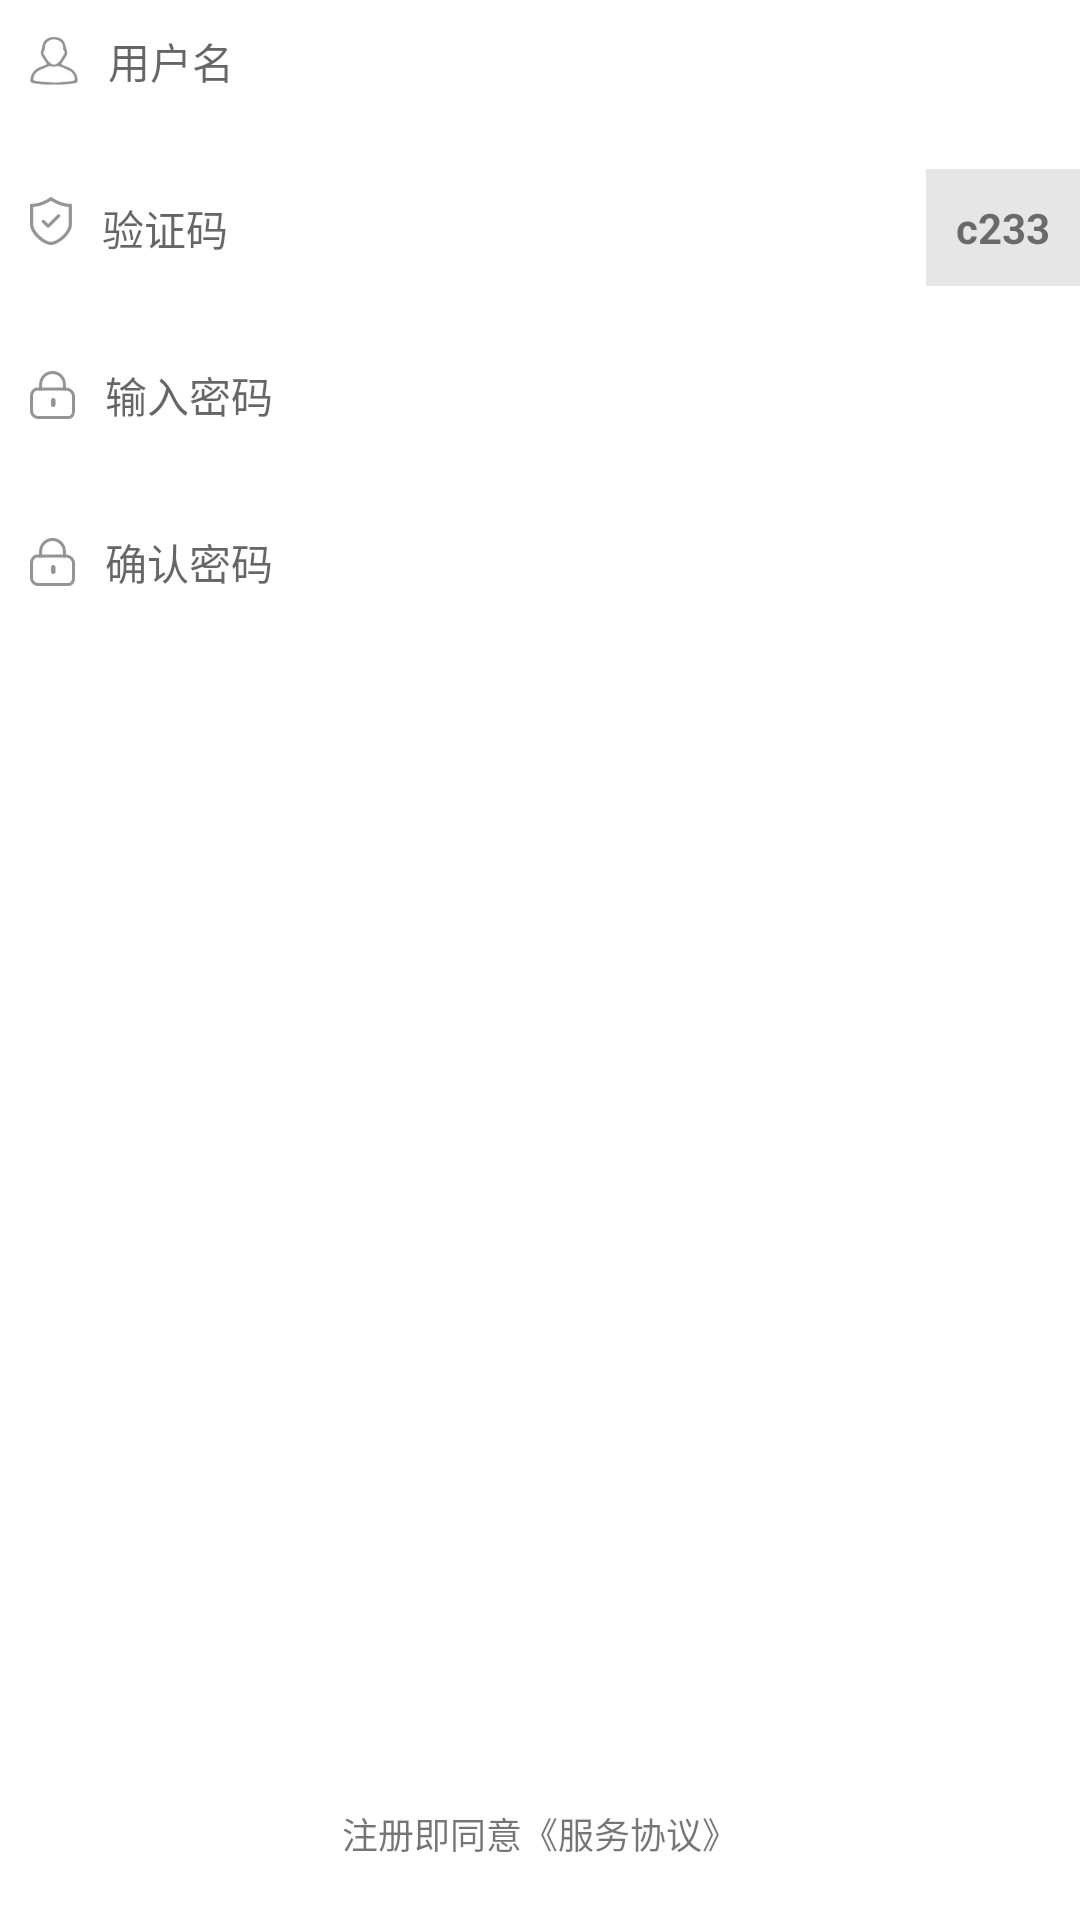

Where to tap for icons on this 1080px×1920px app screen, as point (x, y):
mima: point (52, 395), point (52, 562)
yanzhengma: point (51, 221)
yonghuming: point (54, 61)
